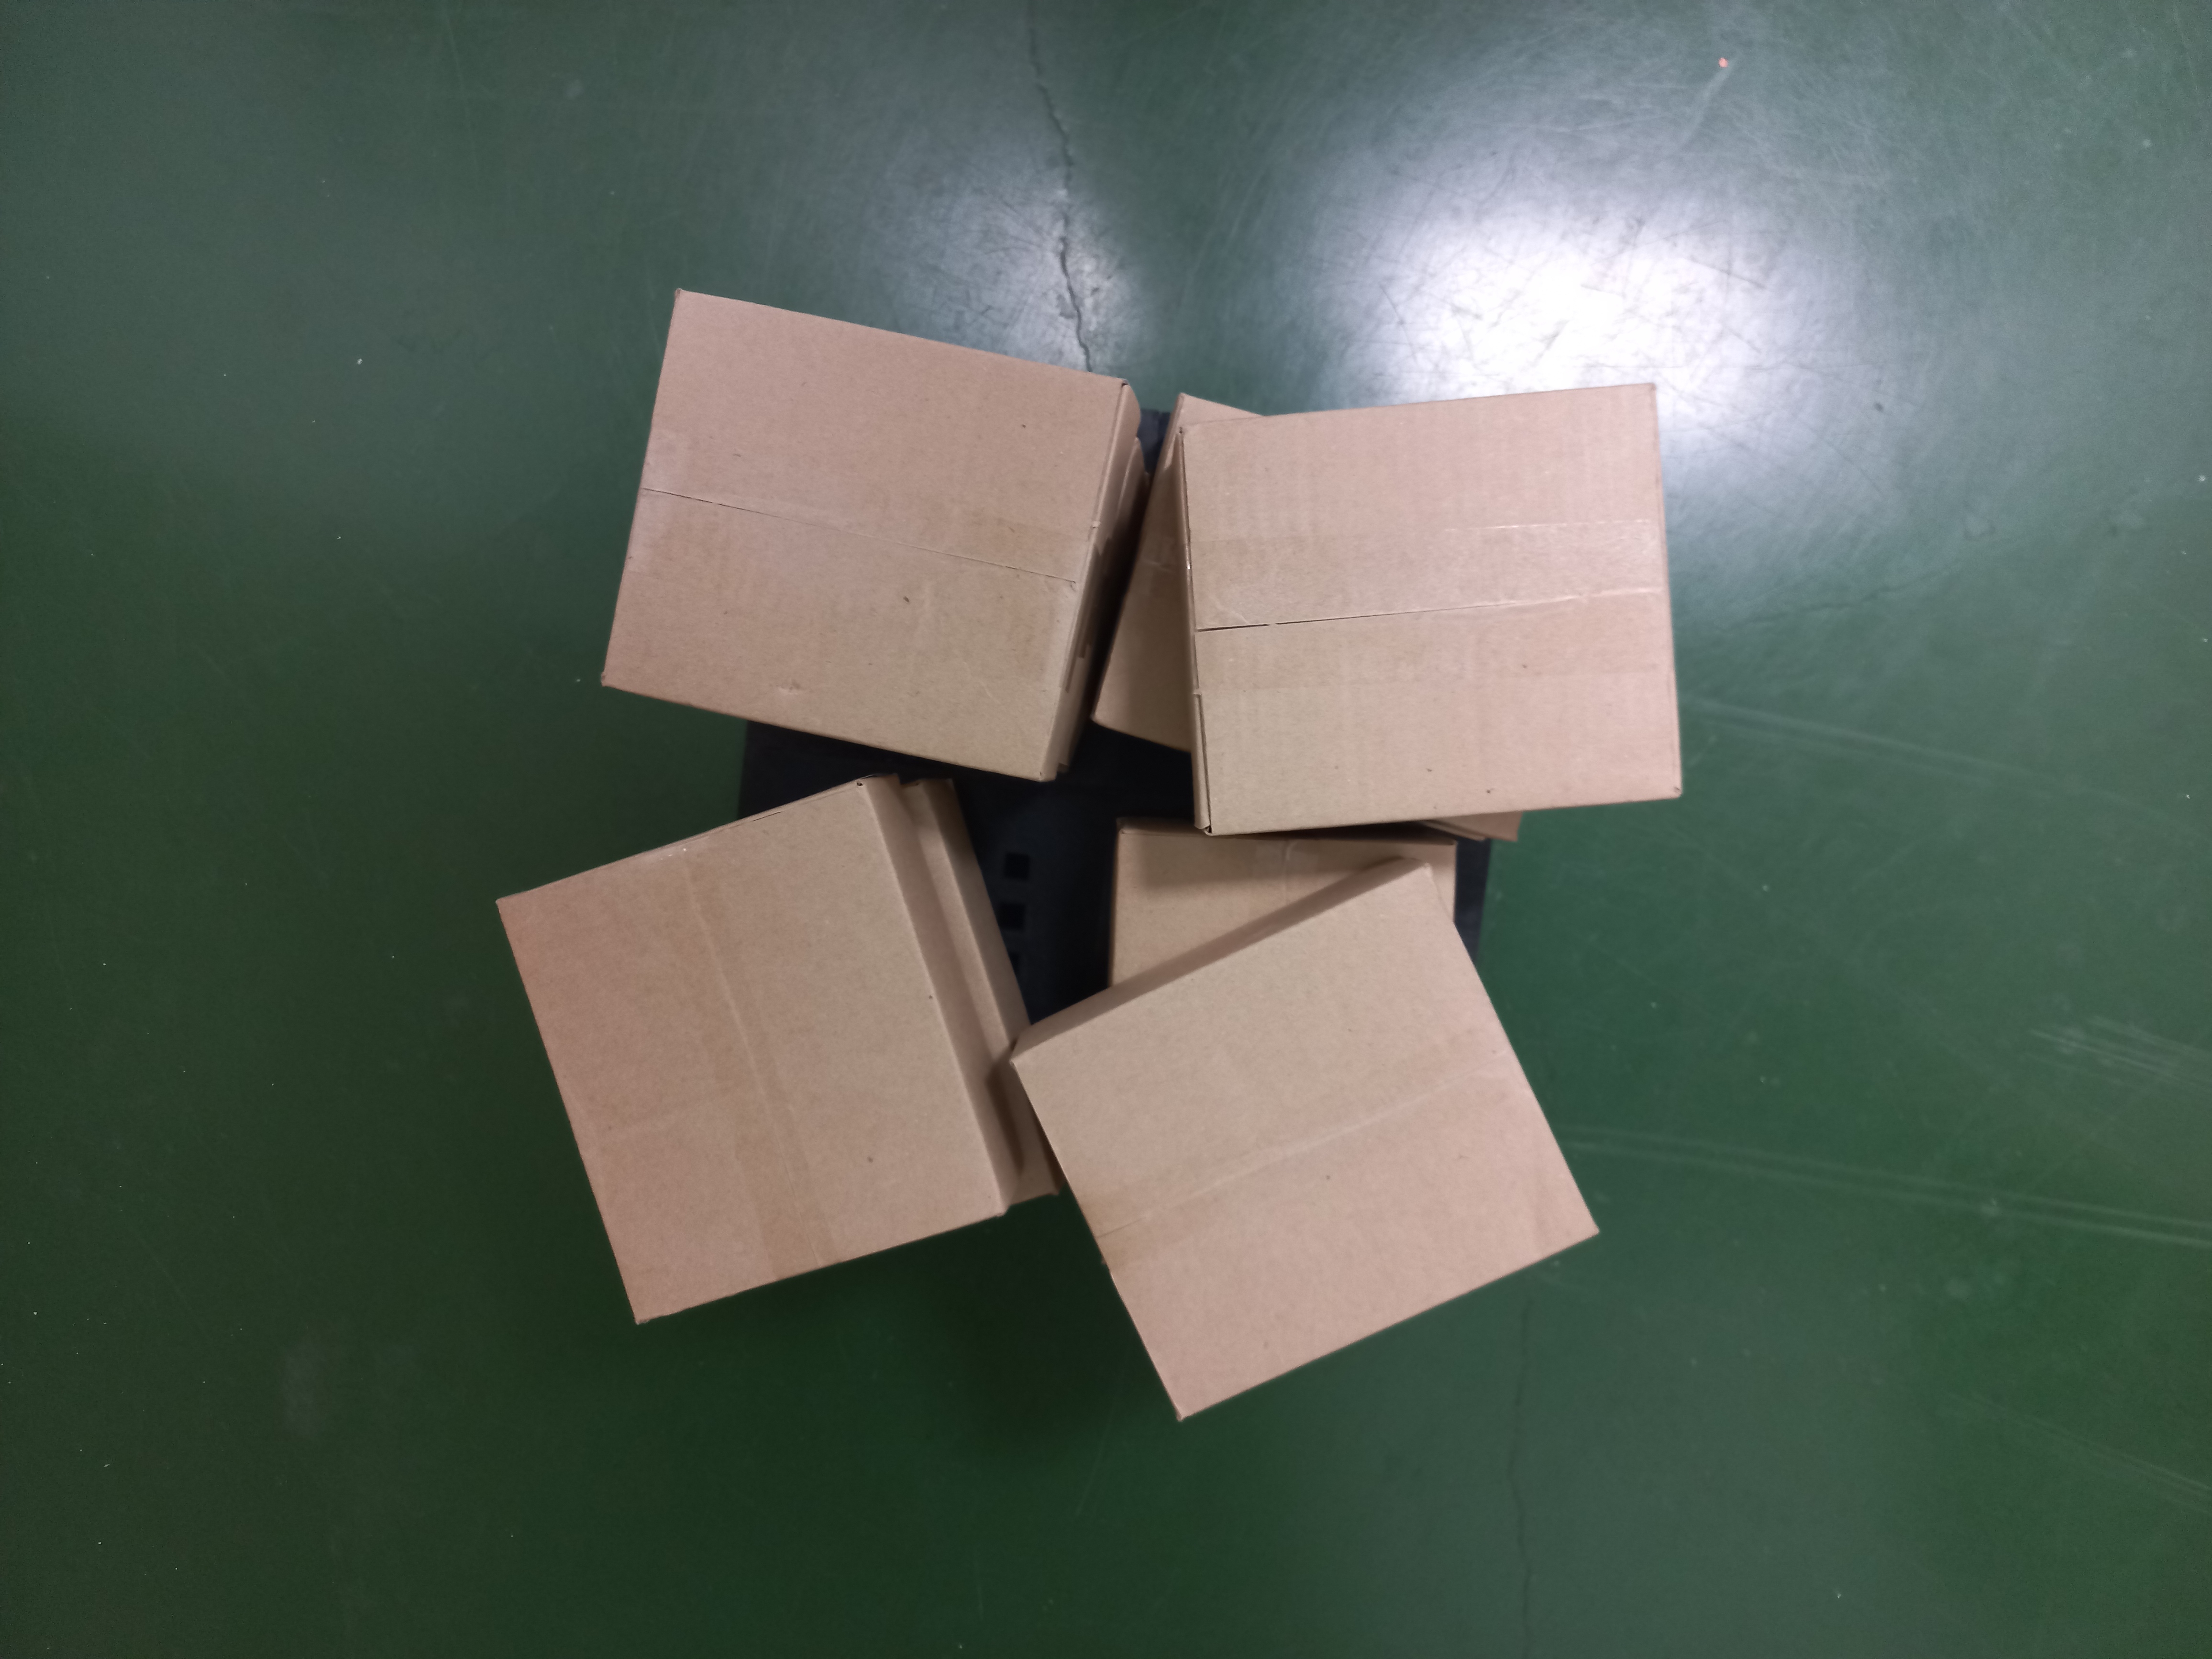box: (1012, 856, 1597, 1425), (498, 762, 1028, 1331), (594, 277, 1130, 789), (1176, 376, 1688, 843)
